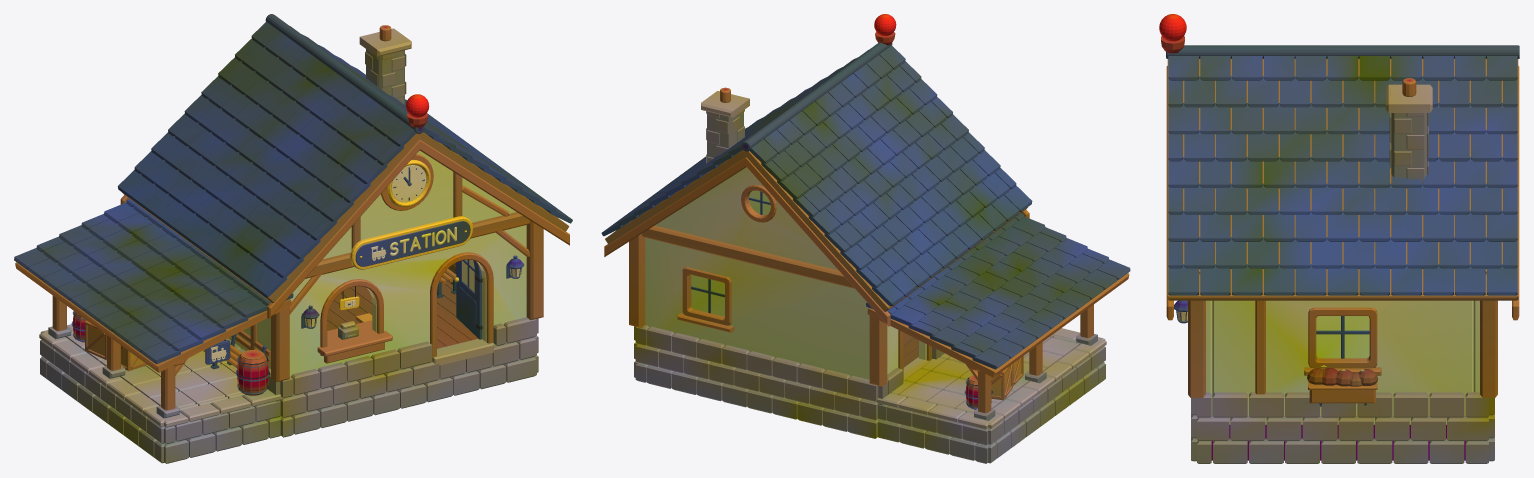
File: Station_Building.glb
3 views of the same model, side by side, from view 1: azimuth 30°, elevation 25°; view 2: azimuth 150°, elevation 25°; view 3: azimuth 270°, elevation 25° (orthographic). The views are drawn at different scales.
Parts seen in each view (by area): view 1: Roof, LeanTo, Walls, Plinth, Facade, Openings, Door; view 2: Roof, LeanTo, Walls, Plinth, Facade; view 3: Roof, Walls, Plinth, Facade.
Part boxes in pixels (x1=…): Roof: x1=117, y1=14, x2=572, y2=302; LeanTo: x1=14, y1=199, x2=293, y2=463; Walls: x1=120, y1=140, x2=569, y2=393; Plinth: x1=223, y1=281, x2=538, y2=437; Facade: x1=301, y1=154, x2=524, y2=328; Openings: x1=317, y1=252, x2=493, y2=363; Door: x1=454, y1=259, x2=482, y2=339; Roof: x1=601, y1=14, x2=1032, y2=311; LeanTo: x1=866, y1=213, x2=1130, y2=463; Walls: x1=604, y1=157, x2=1029, y2=386; Plinth: x1=634, y1=325, x2=944, y2=438; Facade: x1=677, y1=184, x2=931, y2=379; Roof: x1=1159, y1=14, x2=1519, y2=300; Walls: x1=1166, y1=66, x2=1519, y2=424; Plinth: x1=1191, y1=392, x2=1494, y2=463; Facade: x1=1174, y1=300, x2=1381, y2=406.
Size of the model in its own units: 10.63 by 7.78 by 6.79.
